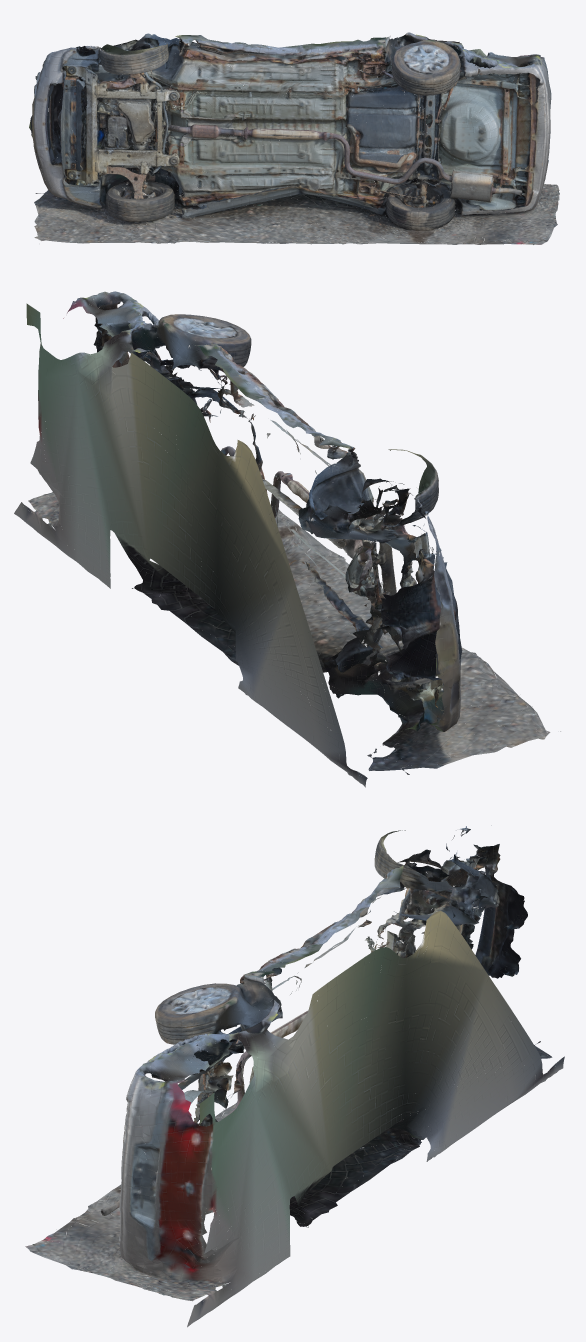
The model's file is chevrolet-impala-undercarriage.glb.
3 views of the same model, one above another, from view 1: azimuth 30°, elevation 25°; view 2: azimuth 150°, elevation 25°; view 3: azimuth 270°, elevation 25° (orthographic). The views are drawn at different scales.
Visible parts, largest first — view 1: CIUC_RC01_ZB02; view 2: CIUC_RC01_ZB02; view 3: CIUC_RC01_ZB02.
Part boxes in pixels (x1=…): CIUC_RC01_ZB02: x1=29, y1=32, x2=559, y2=244; CIUC_RC01_ZB02: x1=14, y1=291, x2=560, y2=787; CIUC_RC01_ZB02: x1=25, y1=825, x2=564, y2=1327.
Size of the model in its own units: 27.84 by 10.34 by 20.83.
Materials: 1 (1 with a texture image).
